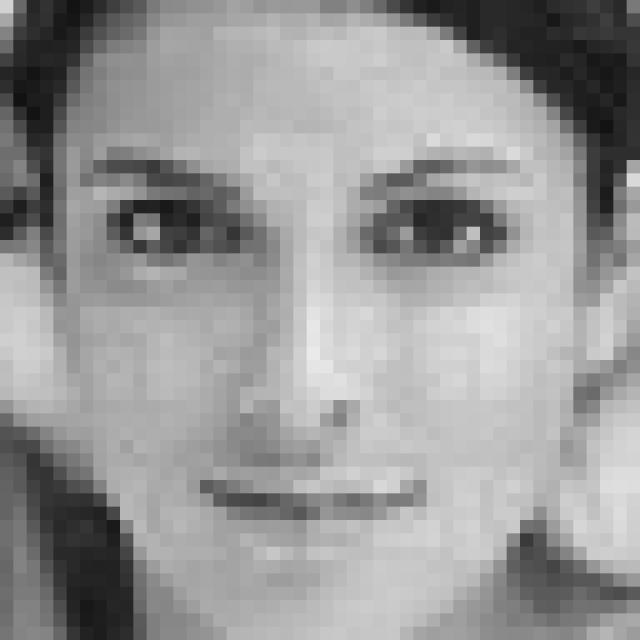neutral: (61, 139, 550, 560)
